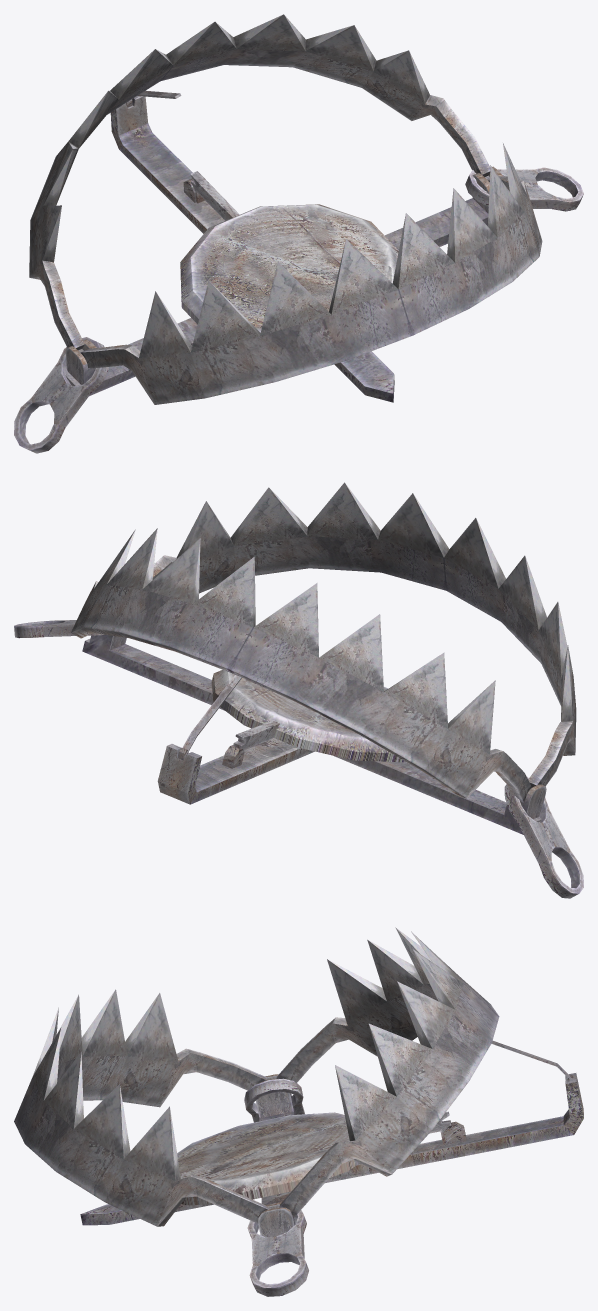
3 renders of one model, top to bottom at view 1: azimuth 30°, elevation 25°; view 2: azimuth 150°, elevation 25°; view 3: azimuth 270°, elevation 25°, orthographic.
Visible parts, largest first — view 1: Trap_LeftSide, Trap_RightSide, Trap_Center, Trap_Cross, Trap_1, Trap_4; view 2: Trap_RightSide, Trap_LeftSide, Trap_Cross, Trap_Center, Trap_1, Trap_4, Trap_3; view 3: Trap_LeftSide, Trap_RightSide, Trap_Center, Trap_Cross, Trap_1.
Part boxes in pixels (<box>): Trap_LeftSide: <box>80,143,542,404</box>; Trap_RightSide: <box>29,14,490,350</box>; Trap_Center: <box>180,204,398,332</box>; Trap_Cross: <box>65,96,502,402</box>; Trap_1: <box>14,167,583,453</box>; Trap_4: <box>190,171,239,220</box>; Trap_RightSide: <box>71,528,531,802</box>; Trap_LeftSide: <box>152,482,576,787</box>; Trap_Cross: <box>82,635,546,834</box>; Trap_Center: <box>211,669,405,762</box>; Trap_1: <box>14,620,583,898</box>; Trap_4: <box>233,720,279,751</box>; Trap_3: <box>182,674,241,756</box>; Trap_LeftSide: <box>14,989,270,1226</box>; Trap_RightSide: <box>277,927,499,1218</box>; Trap_Center: <box>177,1112,359,1205</box>; Trap_Cross: <box>80,1073,583,1236</box>; Trap_1: <box>244,1078,308,1296</box>.
Bounding box in the file's own units: 141 × 77.77 × 123.
Materials: 1 (1 with a texture image).
